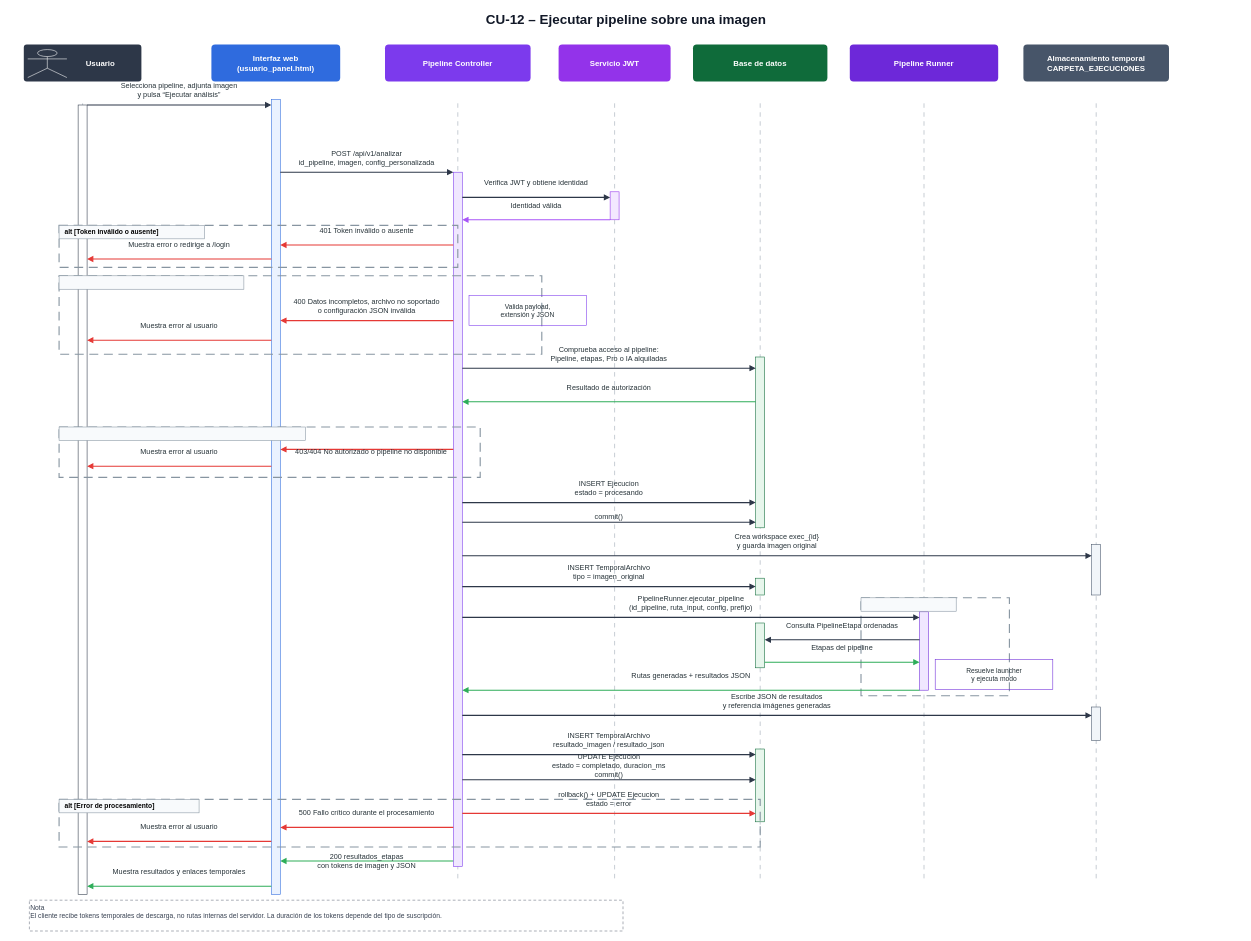
Image size: 1251x941. Some labels were removed from this diagram. Here are the shapes that lost their labels. From the top down, the centre of each, then its label:
the point at 151,282: alt [Payload, archivo o JSON inválido]
the point at 182,433: alt [Pipeline no encontrado, no disponible o sin permisos]
the point at 908,604: loop [Etapas]
